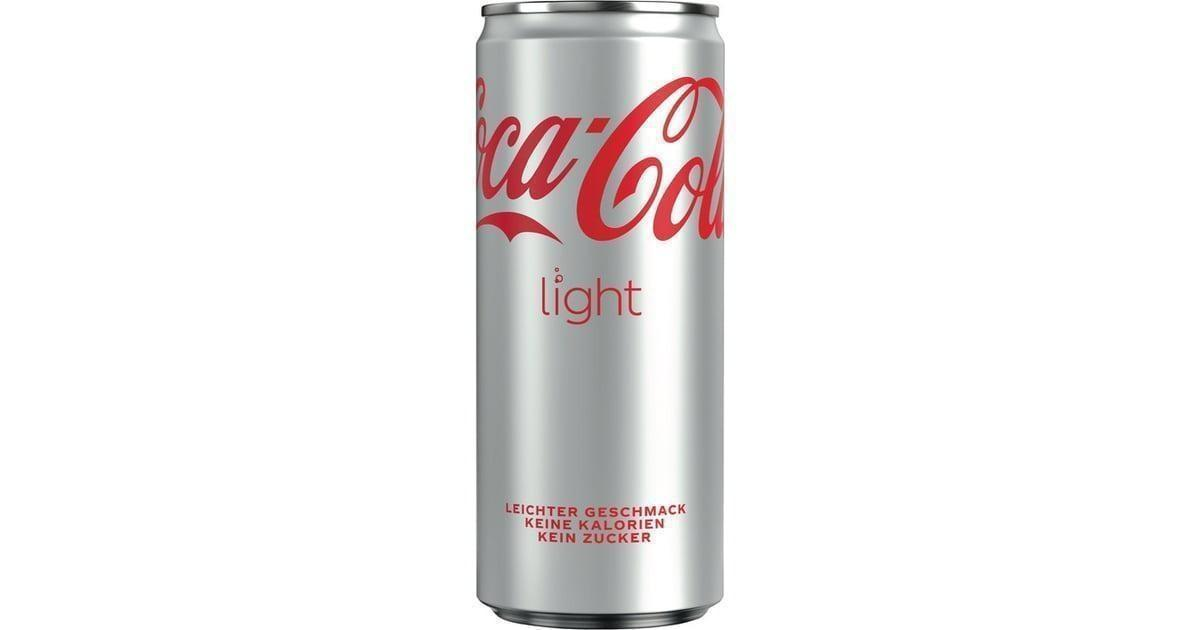tin can: (469, 0, 729, 627)
